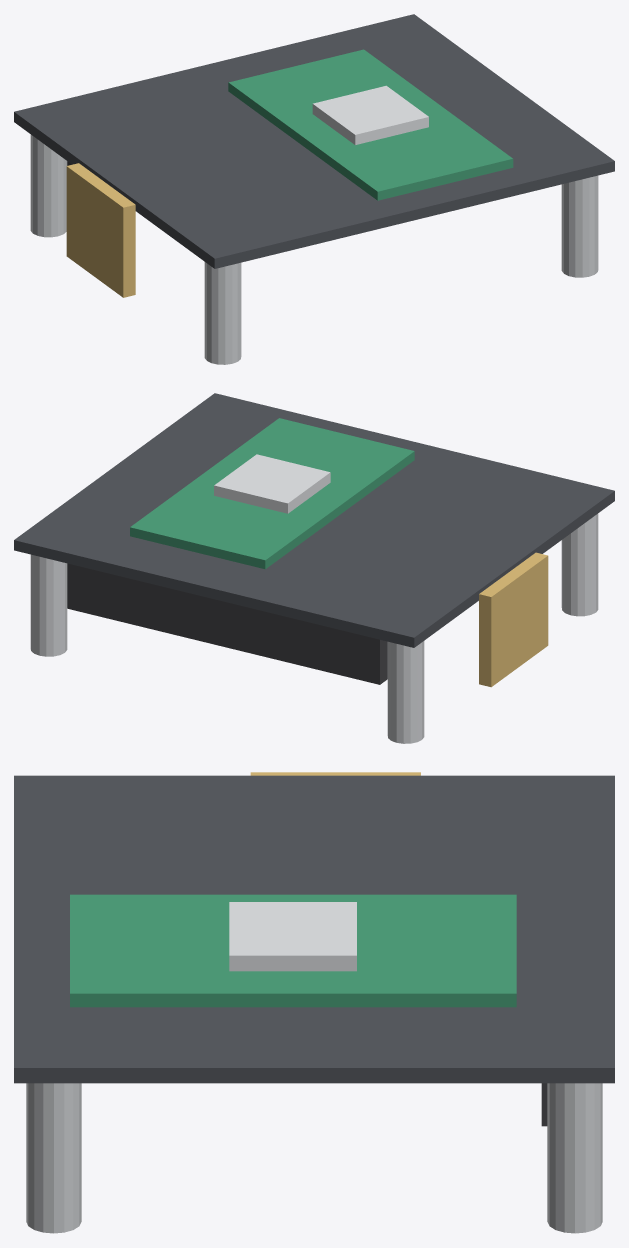
The model's file is ai_hat_plus.glb.
3 views of the same model, one above another, from view 1: azimuth 30°, elevation 25°; view 2: azimuth 150°, elevation 25°; view 3: azimuth 270°, elevation 25° (orthographic). The views are drawn at different scales.
Parts seen in each view (by area): view 1: ai_hat_plus_1_pcb_black, ai_hat_plus_2_pcb_green, ai_hat_plus_9_fpc, ai_hat_plus_3_shield, ai_hat_plus_6_steel, ai_hat_plus_8_steel, ai_hat_plus_5_steel; view 2: ai_hat_plus_1_pcb_black, ai_hat_plus_2_pcb_green, ai_hat_plus_4_plastic_black, ai_hat_plus_9_fpc, ai_hat_plus_3_shield, ai_hat_plus_5_steel, ai_hat_plus_7_steel, ai_hat_plus_6_steel; view 3: ai_hat_plus_1_pcb_black, ai_hat_plus_2_pcb_green, ai_hat_plus_3_shield, ai_hat_plus_7_steel, ai_hat_plus_8_steel, ai_hat_plus_9_fpc.
Boxes of the visible parts, <box> form: ai_hat_plus_1_pcb_black: <box>14,14,614,268</box>; ai_hat_plus_2_pcb_green: <box>228,49,513,200</box>; ai_hat_plus_9_fpc: <box>66,163,135,297</box>; ai_hat_plus_3_shield: <box>312,85,428,145</box>; ai_hat_plus_6_steel: <box>204,262,241,364</box>; ai_hat_plus_8_steel: <box>561,175,598,277</box>; ai_hat_plus_5_steel: <box>30,134,67,237</box>; ai_hat_plus_1_pcb_black: <box>14,393,614,647</box>; ai_hat_plus_2_pcb_green: <box>130,418,414,569</box>; ai_hat_plus_4_plastic_black: <box>67,563,387,684</box>; ai_hat_plus_9_fpc: <box>479,552,548,687</box>; ai_hat_plus_3_shield: <box>214,454,330,513</box>; ai_hat_plus_5_steel: <box>387,641,424,743</box>; ai_hat_plus_7_steel: <box>30,554,67,656</box>; ai_hat_plus_6_steel: <box>561,513,598,616</box>; ai_hat_plus_1_pcb_black: <box>14,775,614,1083</box>; ai_hat_plus_2_pcb_green: <box>70,894,516,1007</box>; ai_hat_plus_3_shield: <box>229,902,356,971</box>; ai_hat_plus_7_steel: <box>547,1083,602,1233</box>; ai_hat_plus_8_steel: <box>26,1083,81,1233</box>; ai_hat_plus_9_fpc: <box>250,772,420,775</box>.
Bounding box in the file's own units: 67 × 20.6 × 56.5.
